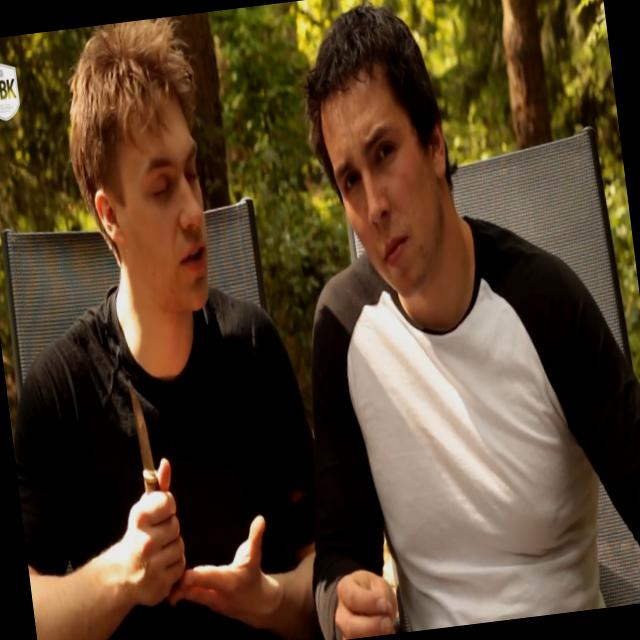knife: (91, 343, 195, 567)
